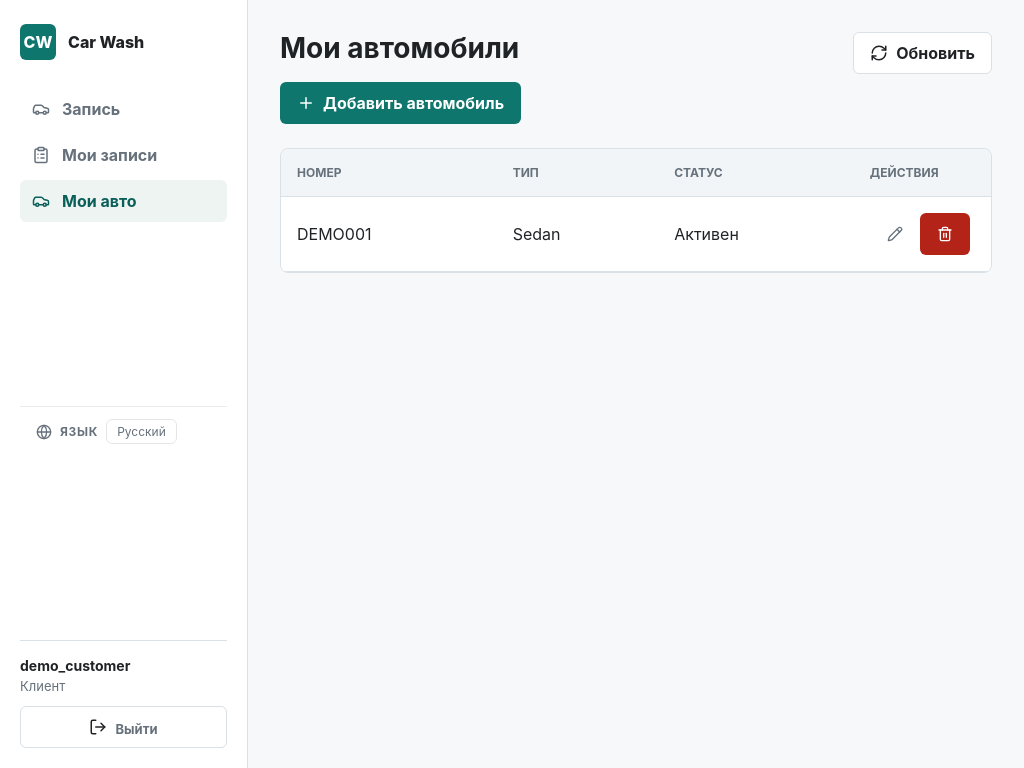
Test: App › opens the new car modal
Check: the text "DEMO001" is shown, box [281,196,497,271]
Click the button "Добавить автомобиль" at coordinates (401, 103), box [280,82,521,124]
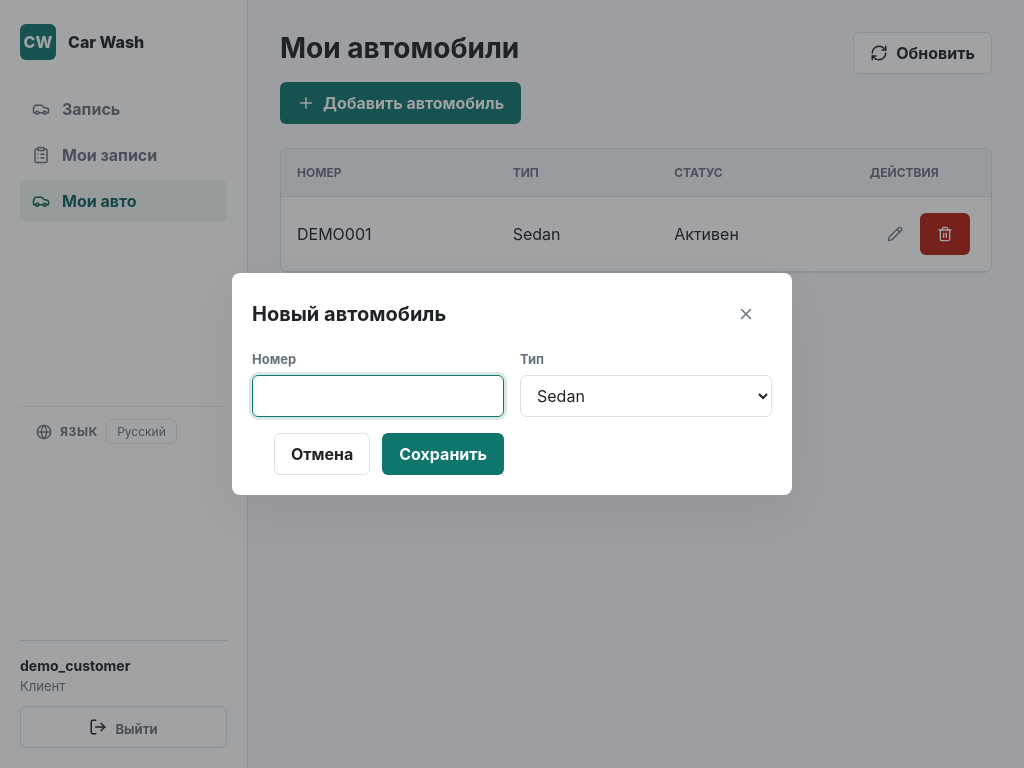
Check: the dialog "Новый автомобиль" is shown
Check: the field labelled "Номер" is shown, box [252,375,504,417]
Check: the dropdown labelled "Тип" is shown, box [520,375,772,417]
